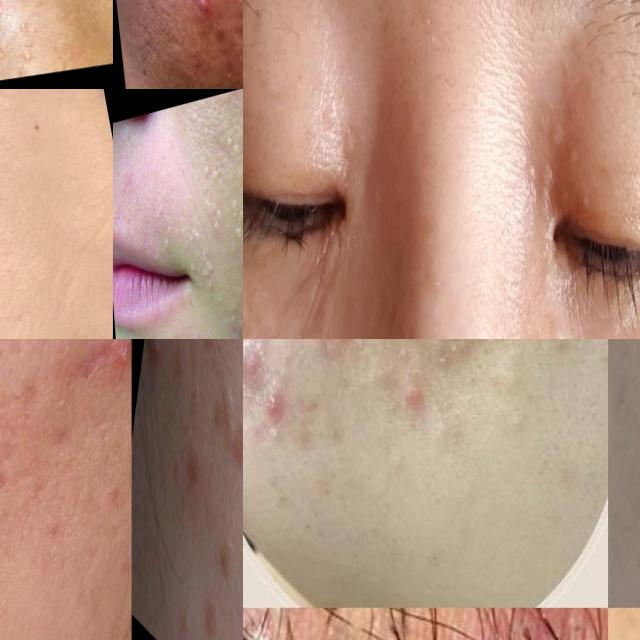acne_scars: (58, 339, 109, 353), (223, 315, 242, 339)
comedone: (425, 339, 473, 377), (254, 384, 292, 429), (12, 36, 40, 70), (504, 402, 526, 438), (514, 339, 548, 349)
cystic: (177, 0, 221, 28)
flat_wart: (172, 353, 240, 539), (212, 524, 242, 599), (223, 410, 243, 494), (142, 339, 172, 383), (203, 587, 225, 640), (226, 191, 243, 242), (201, 157, 225, 192), (156, 235, 178, 262), (227, 125, 243, 160), (206, 195, 220, 235), (185, 107, 203, 134), (200, 339, 226, 356), (152, 192, 164, 224)
milium: (200, 248, 217, 298), (559, 181, 575, 213)
papule: (100, 339, 131, 397), (386, 377, 424, 418), (243, 339, 258, 386), (330, 339, 355, 350)
syringoma: (320, 83, 374, 184), (536, 102, 576, 154)
